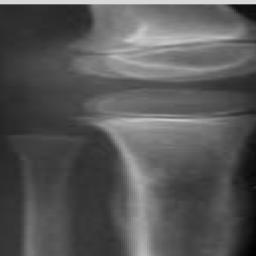cancer: (103, 150, 248, 253)
